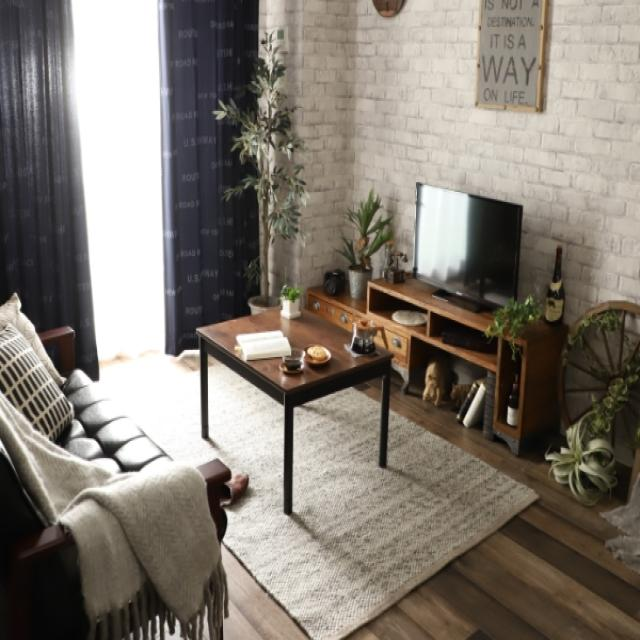vintage desk: (180, 300, 404, 518)
